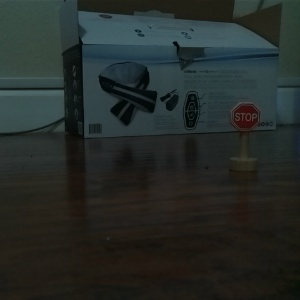stop sign: (227, 100, 263, 175)
